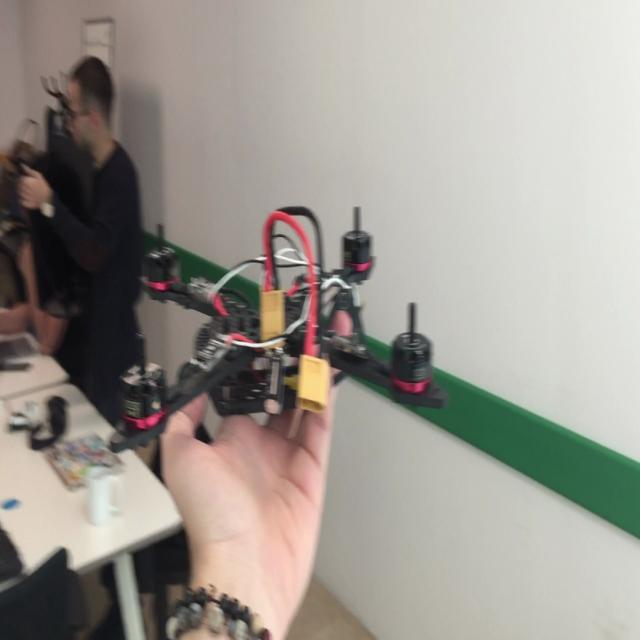drone: (110, 202, 453, 453)
